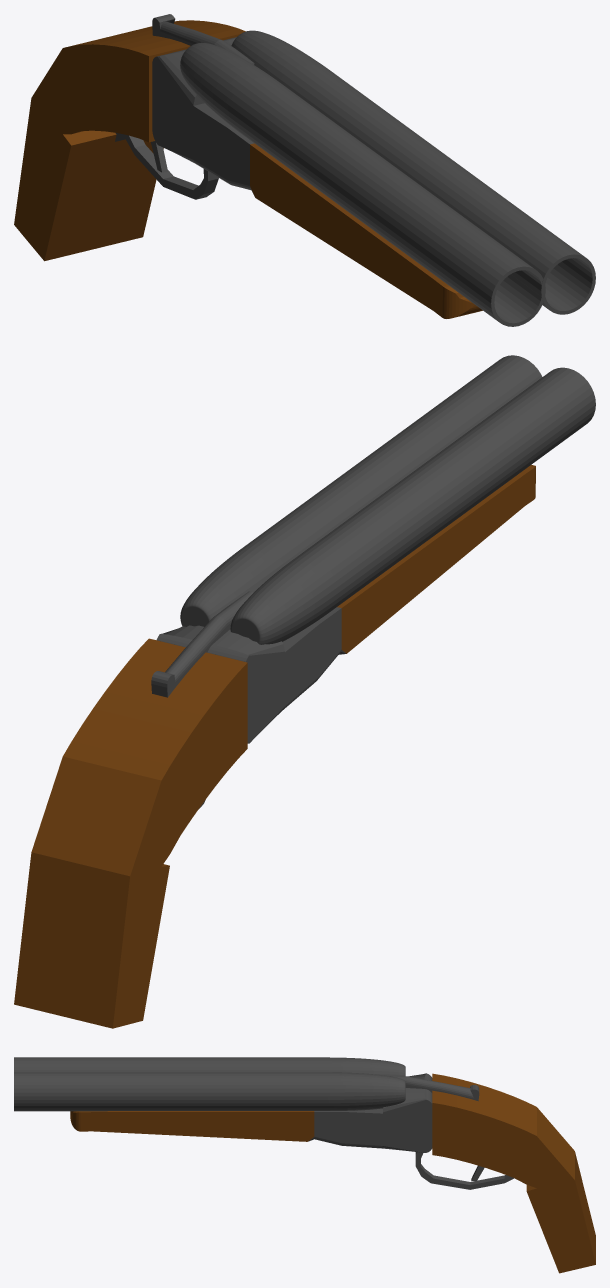
File: gun1.gltf
3 renders of one model, top to bottom at view 1: azimuth 30°, elevation 25°; view 2: azimuth 150°, elevation 25°; view 3: azimuth 270°, elevation 25°, orthographic. The views are drawn at different scales.
Visible parts, largest first — view 1: Cylinder.002, Cube.001, Cylinder.003, Cube, Cube.003, Cube.002; view 2: Cube.001, Cylinder.002, Cube, Cylinder.003, Cube.002; view 3: Cylinder.003, Cube.001, Cube, Cylinder.002, Cube.003, Cube.002.
Boxes of the visible parts, x1,y1,x2,y2 form: Cylinder.002: (180,42,545,326); Cube.001: (14,20,245,261); Cylinder.003: (231,30,595,314); Cube: (152,37,482,318); Cube.003: (115,132,218,199); Cube.002: (152,14,254,64); Cube.001: (14,638,247,1028); Cylinder.002: (230,367,595,644); Cube: (156,465,535,743); Cylinder.003: (180,355,542,626); Cube.002: (151,591,253,697); Cylinder.003: (14,1072,405,1111); Cube.001: (432,1073,595,1273); Cube: (70,1073,432,1152); Cylinder.002: (14,1057,405,1076); Cube.003: (415,1152,514,1189); Cube.002: (390,1076,479,1101).
Bounding box in the file's own units: 0.5624 × 1.63 × 4.46.
